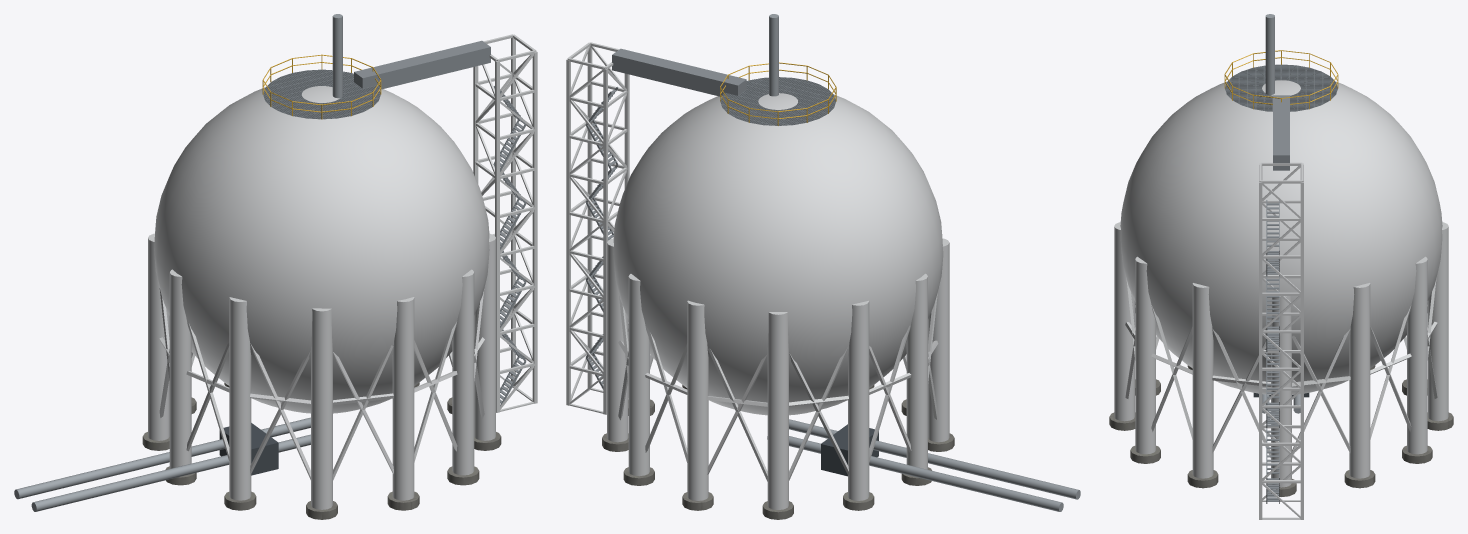
3 views of the same model, side by side, from view 1: azimuth 30°, elevation 25°; view 2: azimuth 150°, elevation 25°; view 3: azimuth 270°, elevation 25° (orthographic). The views are drawn at different scales.
Parts seen in each view (by area): view 1: sphere; view 2: sphere; view 3: sphere.
Part boxes in pixels (box(x1,y1,x2,y2)): sphere: box(14, 14, 537, 519); sphere: box(566, 14, 1080, 519); sphere: box(1109, 14, 1453, 519).
Bounding box in the file's own units: 39.83 × 32.7 × 24.7.
Materials: 7 (2 with a texture image).
